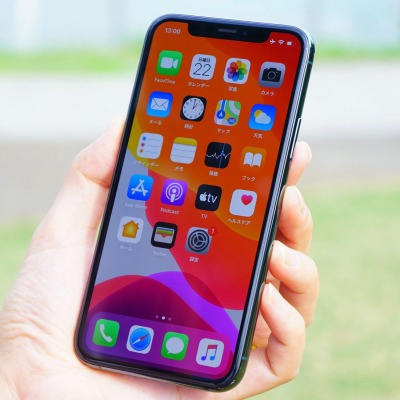iphone: (73, 12, 317, 393)
